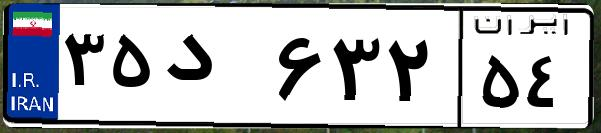2: (385, 28, 445, 110)
3: (330, 28, 385, 110), (57, 26, 110, 100)
4: (525, 38, 570, 115)
5: (475, 38, 525, 113), (110, 28, 158, 98)
6: (270, 28, 330, 110)
د: (158, 20, 270, 120)
